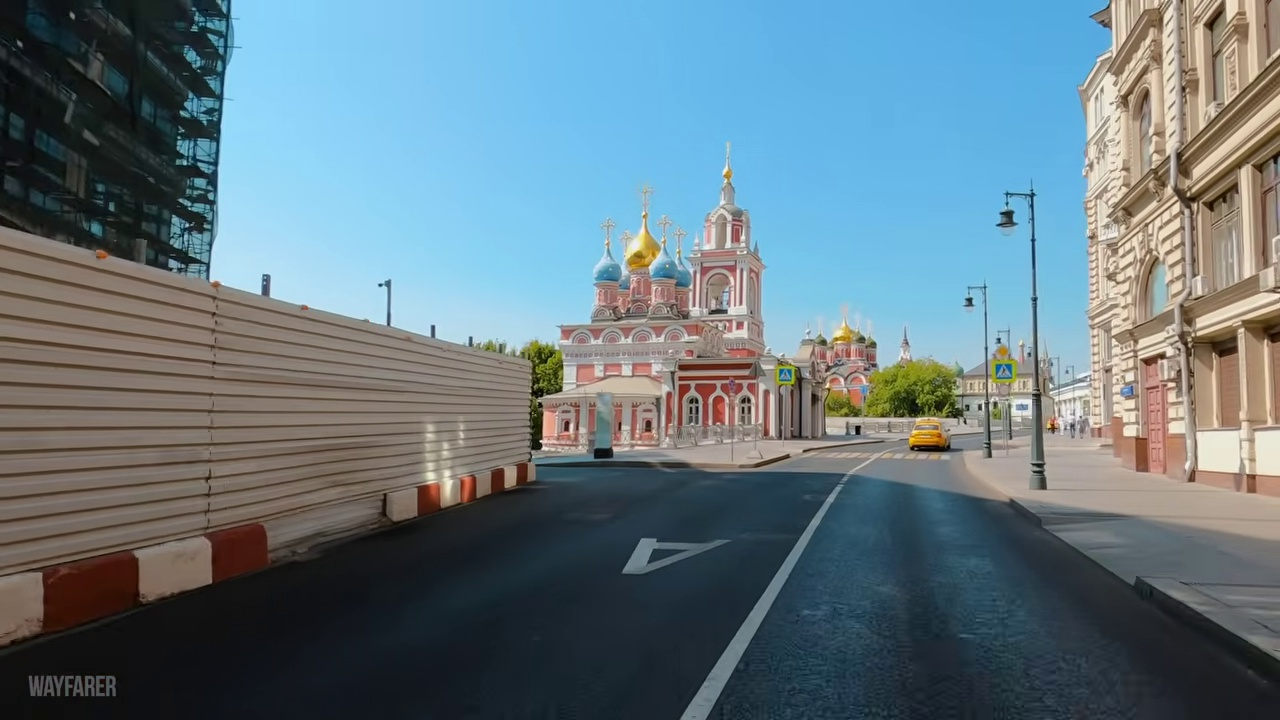acesa: (625, 233, 653, 265)
apagada: (991, 207, 1021, 237)
